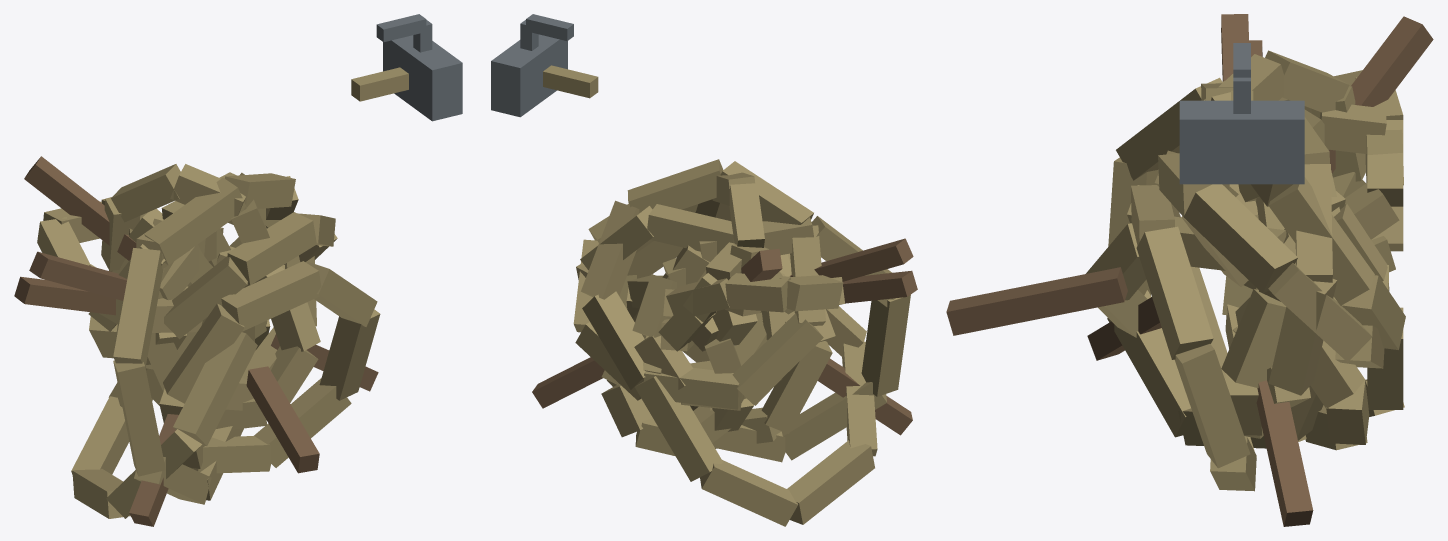
The model's file is rope_ladder_coil.glb.
The picture shows the model from 3 angles, left to right: view 1: azimuth 30°, elevation 25°; view 2: azimuth 150°, elevation 25°; view 3: azimuth 270°, elevation 25°; orthographic projection. The views are drawn at different scales.
Parts seen in each view (by area): view 1: rope_ladder_coil; view 2: rope_ladder_coil; view 3: rope_ladder_coil.
Boxes of the visible parts, x1,y1,x2,y2 form: rope_ladder_coil: (14,14,462,526); rope_ladder_coil: (491,14,917,526); rope_ladder_coil: (946,14,1433,526).
Size of the model in its own units: 0.6818 by 0.6695 by 0.5445.
2 materials, 2 textured.
